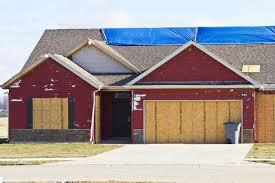minor: (5, 20, 275, 143)
